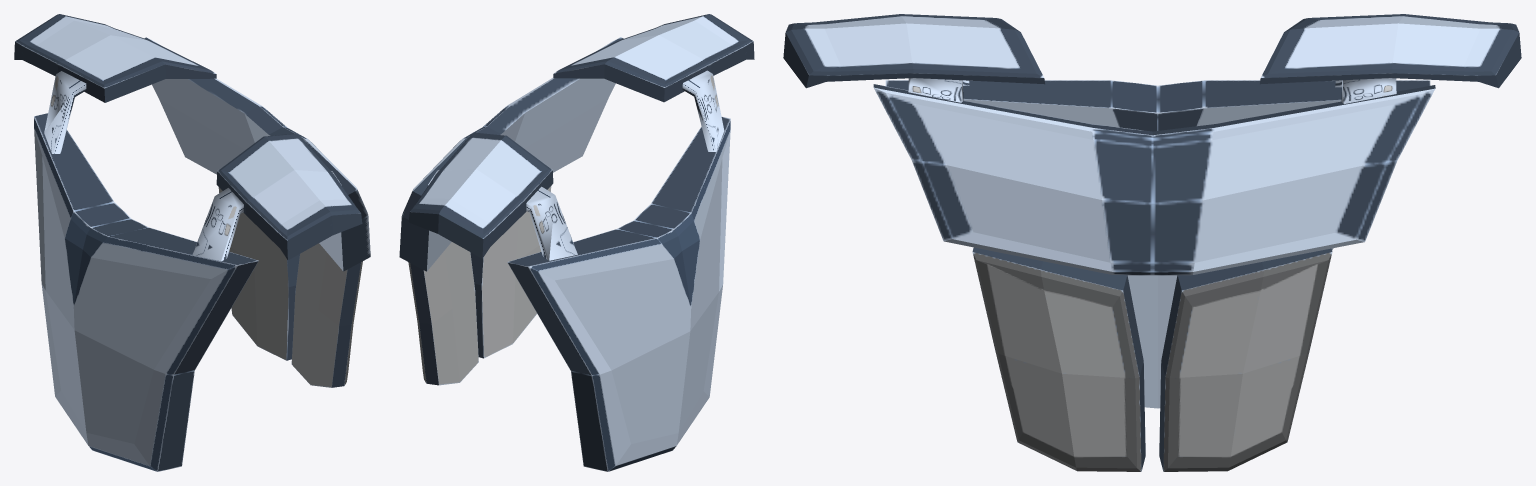
The model's file is BoolReactiveArmour.fbx.
3 renders of one model, left to right at view 1: azimuth 30°, elevation 25°; view 2: azimuth 150°, elevation 25°; view 3: azimuth 270°, elevation 25°, orthographic. The views are drawn at different scales.
Parts seen in each view (by area): view 1: BoolArmour; view 2: BoolArmour; view 3: BoolArmour.
Boxes of the visible parts, x1,y1,x2,y2 form: BoolArmour: (14, 14, 370, 471); BoolArmour: (399, 14, 754, 471); BoolArmour: (783, 14, 1521, 471).
Size of the model in its own units: 214 by 270 by 416.
